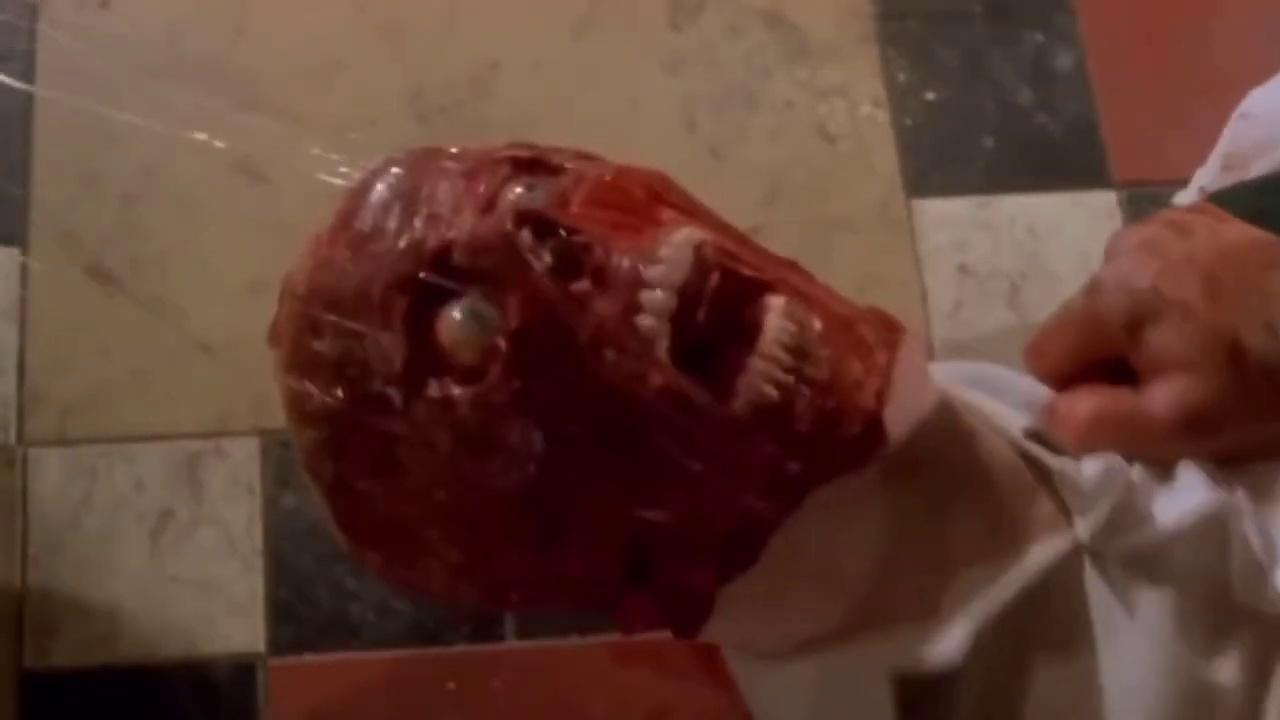Fire: (268, 143, 906, 636)
